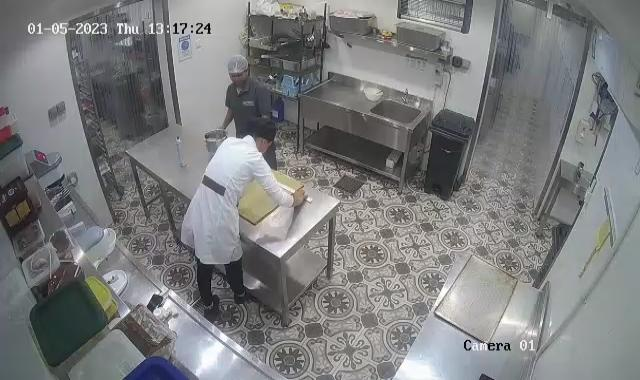hairnet: (224, 55, 250, 77)
no_hairnet: (245, 115, 278, 145)
